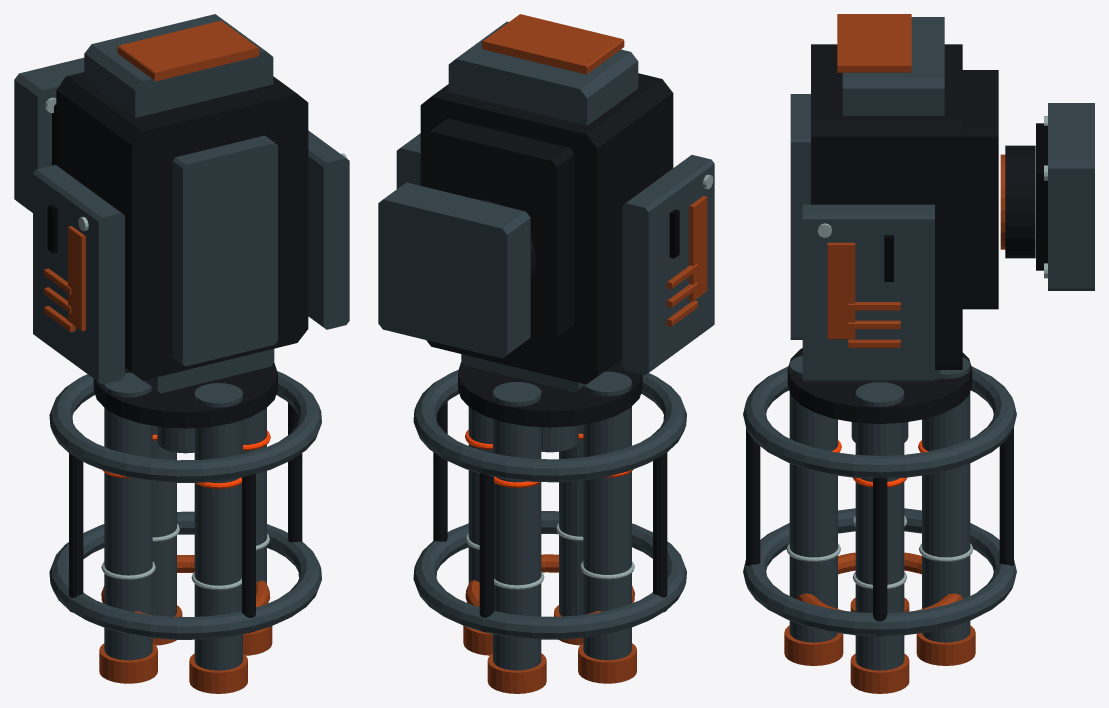
3 views of the same model, side by side, from view 1: azimuth 30°, elevation 25°; view 2: azimuth 150°, elevation 25°; view 3: azimuth 270°, elevation 25° (orthographic).
Visible parts, largest first — view 1: MainReceiver, TopSpine, SideArmor_-1, Barrel_1, Barrel_2, FixedCageRing_-1_4, FixedCageRing_-0_77, RearCounterweight, SideArmor_1, RotorRearDisk, RearServiceCover, SocketFoot (+13 smaller); view 2: MainReceiver, SocketFoot, Cradle, SideArmor_-1, Barrel_3, Barrel_2, RearCounterweight, FixedCageRing_-1_4, FixedCageRing_-0_77, RotorRearDisk, RearServiceCover, Barrel_1 (+13 smaller); view 3: MainReceiver, SideArmor_1, FixedCageRing_-1_4, FixedCageRing_-0_77, Barrel_3, Cradle, Barrel_1, SocketFoot, Barrel_0, RearCounterweight, RotorRearDisk, RearServiceCover (+12 smaller).
Part boxes in pixels (bbox=[...]): MainReceiver: bbox=[56, 72, 308, 380]; TopSpine: bbox=[172, 135, 277, 366]; SideArmor_-1: bbox=[33, 164, 124, 384]; Barrel_1: bbox=[194, 383, 242, 670]; Barrel_2: bbox=[104, 372, 152, 660]; FixedCageRing_-1_4: bbox=[49, 511, 321, 639]; FixedCageRing_-0_77: bbox=[49, 371, 321, 482]; RearCounterweight: bbox=[84, 14, 273, 117]; SideArmor_1: bbox=[308, 130, 349, 329]; RotorRearDisk: bbox=[93, 363, 277, 428]; RearServiceCover: bbox=[117, 20, 259, 81]; SocketFoot: bbox=[14, 57, 84, 212]; MainReceiver: bbox=[420, 73, 673, 384]; SocketFoot: bbox=[378, 182, 530, 358]; Cradle: bbox=[425, 118, 574, 340]; SideArmor_-1: bbox=[622, 155, 714, 375]; Barrel_3: bbox=[493, 382, 541, 670]; Barrel_2: bbox=[583, 371, 631, 660]; RearCounterweight: bbox=[448, 21, 638, 125]; FixedCageRing_-1_4: bbox=[413, 511, 686, 639]; FixedCageRing_-0_77: bbox=[413, 370, 686, 482]; RotorRearDisk: bbox=[458, 359, 642, 427]; RearServiceCover: bbox=[482, 14, 624, 74]; Barrel_1: bbox=[559, 424, 583, 616]; MainReceiver: bbox=[811, 44, 962, 369]; SideArmor_1: bbox=[802, 204, 934, 381]; FixedCageRing_-1_4: bbox=[743, 508, 1016, 636]; FixedCageRing_-0_77: bbox=[743, 366, 1016, 478]; Barrel_3: bbox=[922, 357, 970, 642]; Cradle: bbox=[962, 70, 998, 309]; Barrel_1: bbox=[789, 355, 837, 642]; SocketFoot: bbox=[1048, 103, 1094, 290]; Barrel_0: bbox=[855, 382, 904, 670]; RearCounterweight: bbox=[842, 17, 944, 115]; RotorRearDisk: bbox=[787, 348, 972, 423]; RearServiceCover: bbox=[837, 14, 911, 72].
Size of the model in its own units: 1.11 by 2.47 by 1.28.
